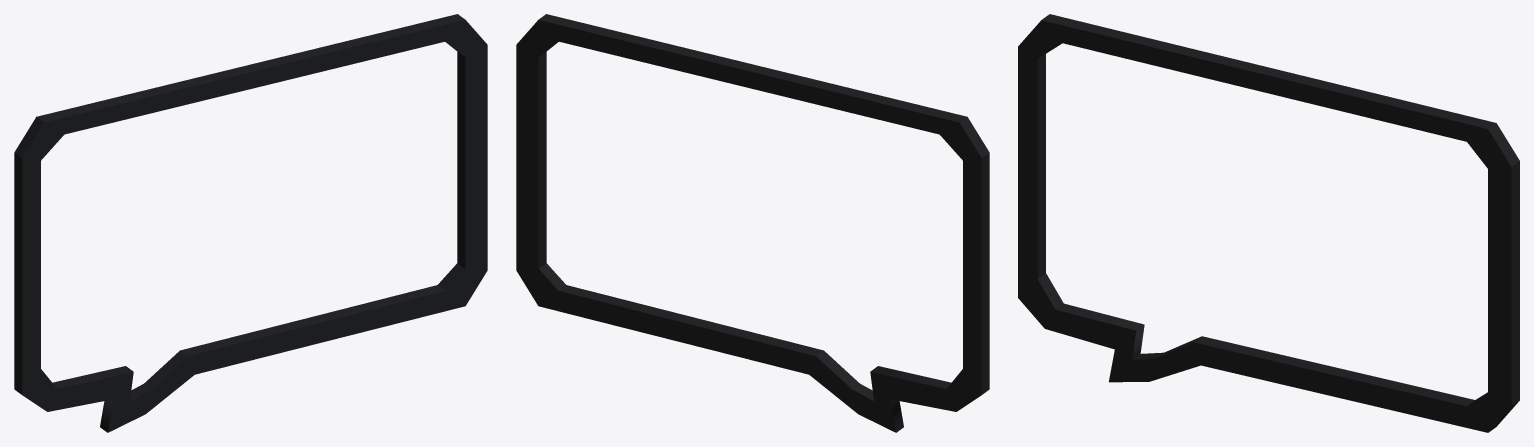
Rendered from SM_Icon_SpeechBubble_02.fbx.
The picture shows the model from 3 angles, left to right: view 1: azimuth 30°, elevation 25°; view 2: azimuth 150°, elevation 25°; view 3: azimuth 330°, elevation 25°; orthographic projection. The views are drawn at different scales.
Parts seen in each view (by area): view 1: SM_Icon_SpeechBubble_02; view 2: SM_Icon_SpeechBubble_02; view 3: SM_Icon_SpeechBubble_02.
Boxes of the visible parts, bbox=[...] form: SM_Icon_SpeechBubble_02: bbox=[14, 14, 487, 432]; SM_Icon_SpeechBubble_02: bbox=[516, 14, 989, 432]; SM_Icon_SpeechBubble_02: bbox=[1018, 14, 1519, 432].
Size of the model in its own units: 65.22 by 43.65 by 1.92.
